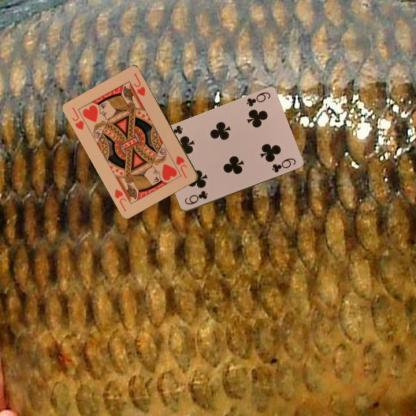6c: (182, 188, 209, 206), (244, 90, 271, 108)
Jh: (173, 153, 189, 180), (70, 105, 86, 131)
